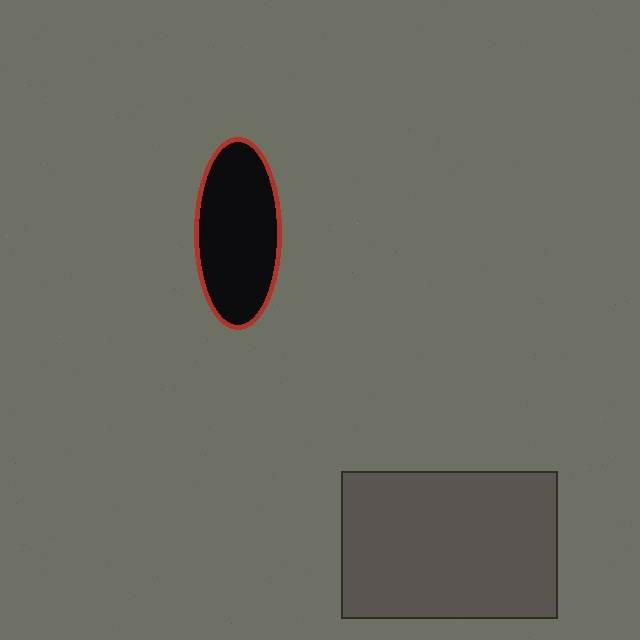concrete_damage: (341, 471, 557, 618)
open_manhole: (194, 137, 281, 329)
